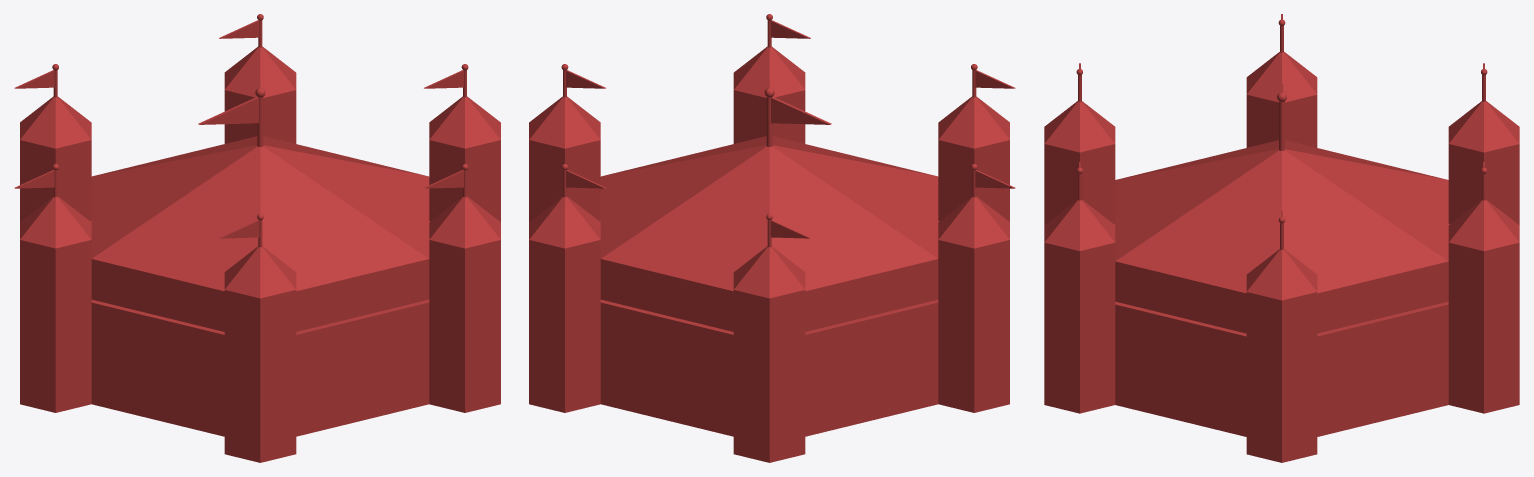
Rendered from Castle.fbx.
3 views of the same model, side by side, from view 1: azimuth 30°, elevation 25°; view 2: azimuth 150°, elevation 25°; view 3: azimuth 270°, elevation 25° (orthographic).
Visible parts, largest first — view 1: 개체_25, 개체_3, 개체_32, 개체_37, 개체_36, 개체_1, 개체_2, 개체_35, 개체_33, 개체_31, 개체_30, 개체_27 (+5 smaller); view 2: 개체_25, 개체_3, 개체_35, 개체_34, 개체_36, 개체_1, 개체_2, 개체_32, 개체_33, 개체_29, 개체_30, 개체_27 (+5 smaller); view 3: 개체_25, 개체_3, 개체_33, 개체_34, 개체_37, 개체_1, 개체_2, 개체_32, 개체_35, 개체_36, 개체_26, 개체_28 (+4 smaller).
Boxes of the visible parts, x1,y1,x2,y2 form: 개체_25: (91,136,429,291); 개체_3: (90,221,430,436); 개체_32: (224,290,296,462); 개체_37: (429,240,500,412); 개체_36: (20,240,91,412); 개체_1: (91,259,429,331); 개체_2: (91,299,429,352); 개체_35: (20,140,91,221); 개체_33: (429,140,500,221); 개체_31: (224,246,296,298); 개체_30: (20,196,91,248); 개체_27: (429,96,500,148); 개체_25: (600,136,938,291); 개체_3: (599,221,939,436); 개체_35: (733,290,805,462); 개체_34: (529,240,600,412); 개체_36: (938,240,1009,412); 개체_1: (600,259,938,331); 개체_2: (600,299,938,352); 개체_32: (938,140,1009,221); 개체_33: (529,140,600,221); 개체_29: (733,246,805,298); 개체_30: (938,196,1009,248); 개체_27: (529,96,600,148); 개체_25: (1115,140,1448,293); 개체_3: (1114,224,1449,436); 개체_33: (1246,292,1317,462); 개체_34: (1448,242,1519,413); 개체_37: (1044,242,1115,413); 개체_1: (1115,261,1448,333); 개체_2: (1115,301,1448,354); 개체_32: (1044,144,1115,224); 개체_35: (1448,144,1519,224); 개체_36: (1246,95,1317,147); 개체_26: (1044,199,1115,250); 개체_28: (1448,199,1519,250).
Size of the model in its own units: 19.49 by 16.7 by 9.86.
